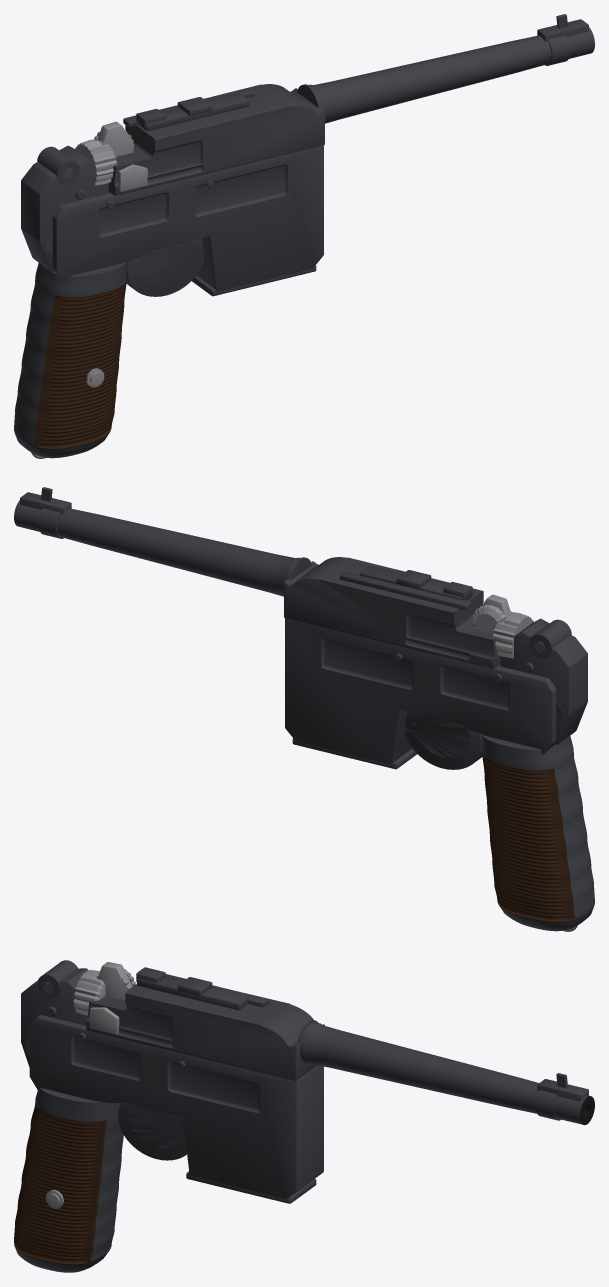
File: mauser-c96-original.fbx
3 views of the same model, one above another, from view 1: azimuth 30°, elevation 25°; view 2: azimuth 150°, elevation 25°; view 3: azimuth 330°, elevation 25° (orthographic).
Visible parts, largest first — view 1: SM_Weapon_C96_Frame, SM_Weapon_C96_Grip, SM_Weapon_C96_Receiver, SM_Weapon_C96_Barrel, SM_Weapon_C96_StockLugs, SM_Weapon_C96_TriggerGuard, SM_Weapon_C96_RearSight, SM_Weapon_C96_Bolt, SM_Weapon_C96_Hammer, SM_Weapon_C96_FrontSight, SM_Weapon_C96_Safety, SM_Weapon_C96_MagFloorplate; view 2: SM_Weapon_C96_Frame, SM_Weapon_C96_Grip, SM_Weapon_C96_Receiver, SM_Weapon_C96_Barrel, SM_Weapon_C96_StockLugs, SM_Weapon_C96_TriggerGuard, SM_Weapon_C96_RearSight, SM_Weapon_C96_Extractor, SM_Weapon_C96_Bolt, SM_Weapon_C96_Hammer, SM_Weapon_C96_FrontSight, SM_Weapon_C96_MagFloorplate; view 3: SM_Weapon_C96_Frame, SM_Weapon_C96_Grip, SM_Weapon_C96_Receiver, SM_Weapon_C96_Barrel, SM_Weapon_C96_StockLugs, SM_Weapon_C96_TriggerGuard, SM_Weapon_C96_RearSight, SM_Weapon_C96_Bolt, SM_Weapon_C96_Hammer, SM_Weapon_C96_FrontSight, SM_Weapon_C96_Safety, SM_Weapon_C96_MagFloorplate.
Part boxes in pixels (x1,y1,x2,y2): SM_Weapon_C96_Frame: (52, 145, 323, 291); SM_Weapon_C96_Grip: (14, 261, 127, 458); SM_Weapon_C96_Receiver: (108, 84, 324, 195); SM_Weapon_C96_Barrel: (297, 27, 594, 123); SM_Weapon_C96_StockLugs: (21, 145, 108, 271); SM_Weapon_C96_TriggerGuard: (126, 238, 203, 296); SM_Weapon_C96_RearSight: (136, 93, 249, 131); SM_Weapon_C96_Bolt: (75, 139, 117, 185); SM_Weapon_C96_Hammer: (94, 121, 134, 156); SM_Weapon_C96_FrontSight: (537, 14, 588, 41); SM_Weapon_C96_Safety: (118, 164, 147, 191); SM_Weapon_C96_MagFloorplate: (192, 265, 316, 296); SM_Weapon_C96_Frame: (285, 618, 556, 764); SM_Weapon_C96_Grip: (481, 734, 594, 931); SM_Weapon_C96_Receiver: (284, 557, 500, 668); SM_Weapon_C96_Barrel: (14, 500, 311, 596); SM_Weapon_C96_StockLugs: (500, 618, 587, 744); SM_Weapon_C96_TriggerGuard: (405, 711, 482, 769); SM_Weapon_C96_RearSight: (359, 566, 472, 600); SM_Weapon_C96_Extractor: (340, 571, 471, 610); SM_Weapon_C96_Bolt: (491, 612, 533, 658); SM_Weapon_C96_Hammer: (472, 594, 512, 633); SM_Weapon_C96_FrontSight: (20, 487, 71, 514); SM_Weapon_C96_MagFloorplate: (292, 738, 416, 769); SM_Weapon_C96_Frame: (29, 1015, 323, 1199); SM_Weapon_C96_Grip: (14, 1088, 123, 1272); SM_Weapon_C96_Receiver: (86, 974, 324, 1081); SM_Weapon_C96_Barrel: (297, 1020, 594, 1125); SM_Weapon_C96_StockLugs: (21, 960, 88, 1067); SM_Weapon_C96_TriggerGuard: (118, 1102, 186, 1160); SM_Weapon_C96_RearSight: (136, 967, 249, 1010); SM_Weapon_C96_Bolt: (73, 969, 105, 1015); SM_Weapon_C96_Hammer: (96, 962, 136, 1000); SM_Weapon_C96_FrontSight: (537, 1073, 588, 1105); SM_Weapon_C96_Safety: (89, 1007, 119, 1034); SM_Weapon_C96_MagFloorplate: (186, 1171, 316, 1203).
Size of what is drawn, in the model's own units: 28.65 by 15.38 by 3.68.
